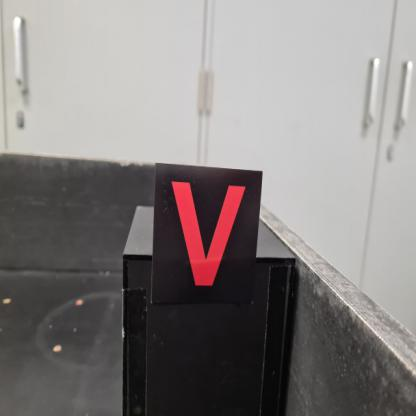v: (153, 163, 265, 305)
